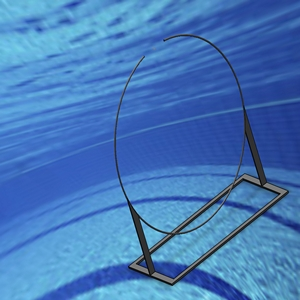circle: (110, 31, 290, 286)
